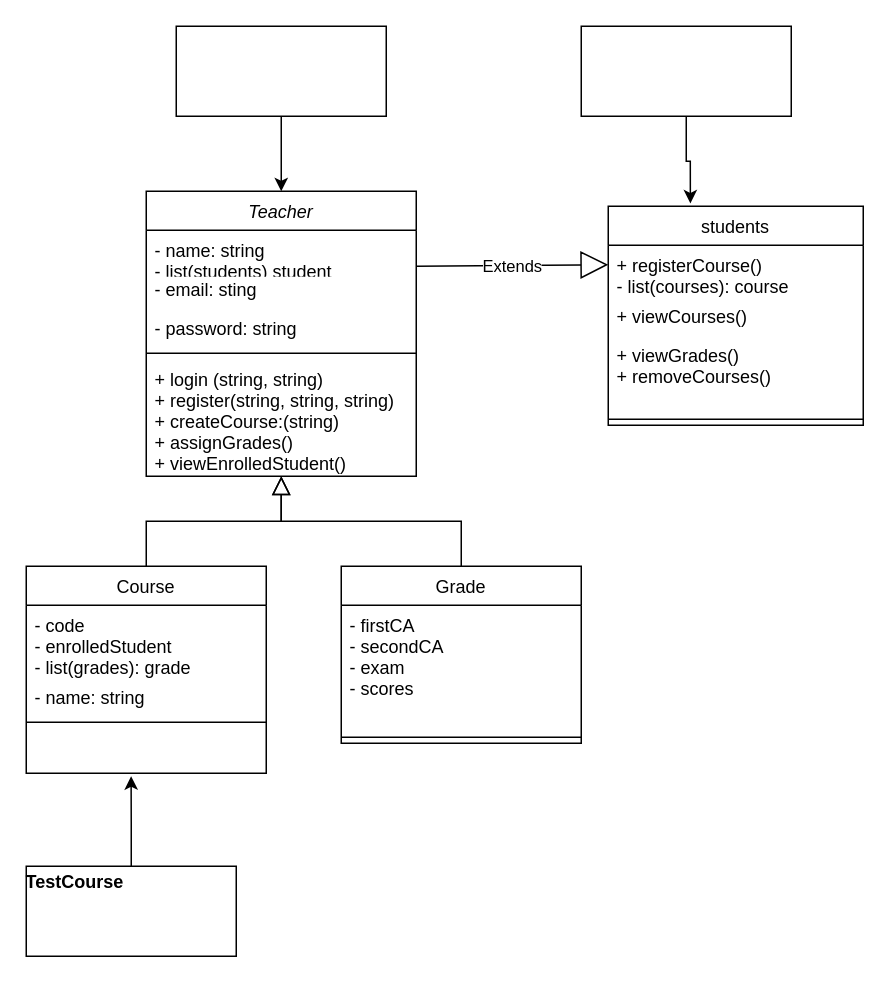
Some shapes in this 890 by 983 pixel diagram are drawn without their labels. The shapes that lost their labels are listed below. From the top down, each one's centre as x and y in pixels, then its label:
At (x=280, y=70): "TestTeacher".
At (x=685, y=70): "TestStudents".
